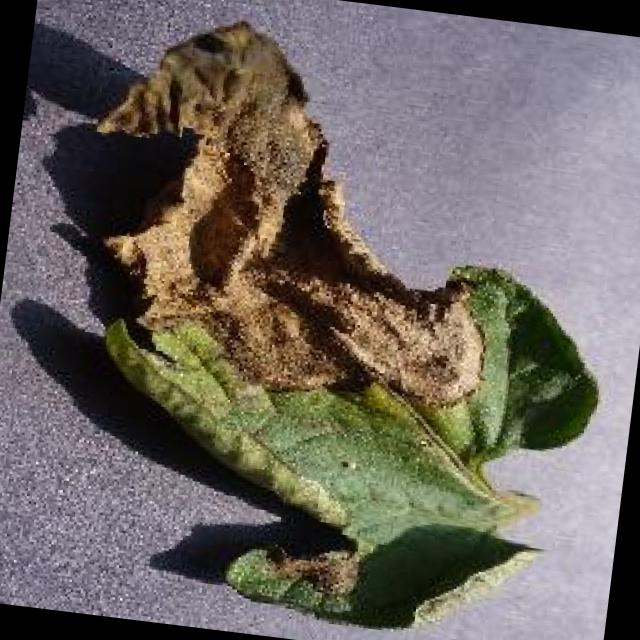Tomato_Late_Blight: (62, 0, 529, 430)
